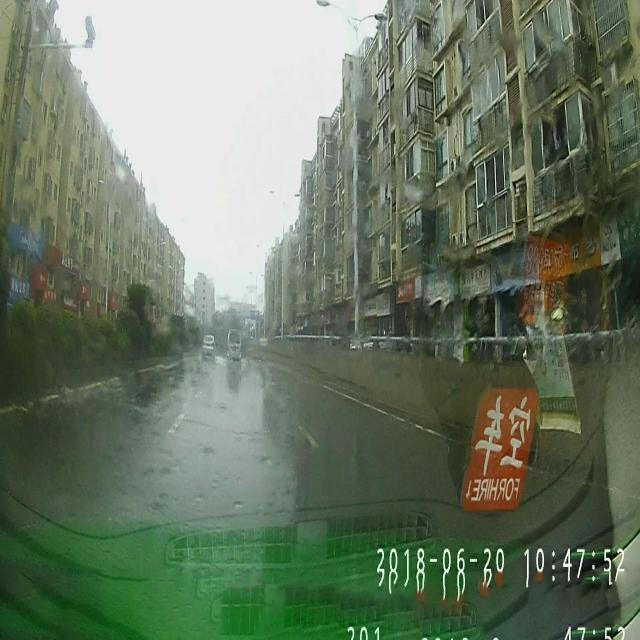car: (226, 328, 240, 364), (202, 330, 214, 358)
